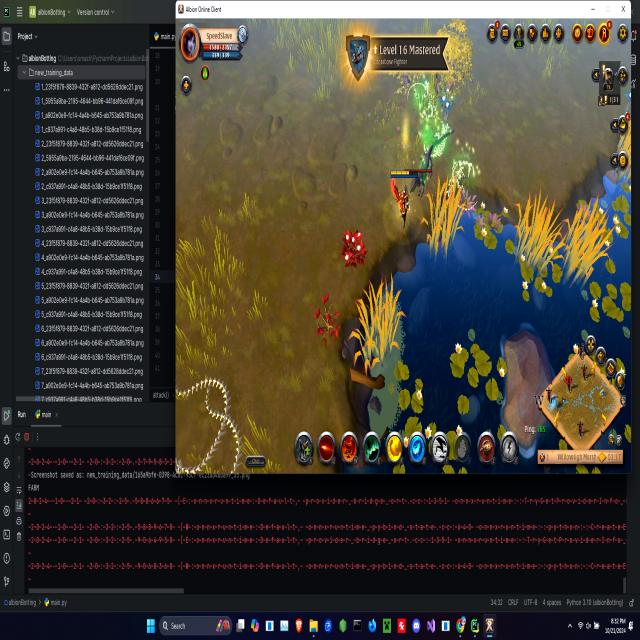hide: (337, 229, 372, 271), (436, 76, 460, 128)
ore: (404, 126, 456, 198)
red: (386, 166, 422, 235)
